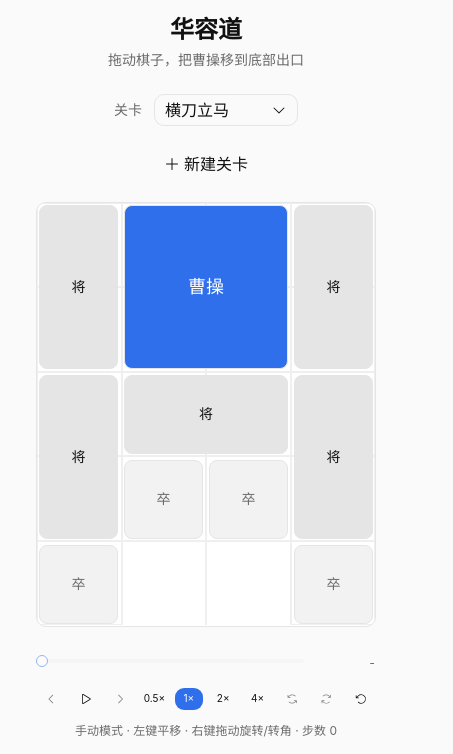
Test case: 自动演示动画队列 › 暂停后点击下一步会播放旋转动画再提交目标朝向
The width and height of the screenshot is (453, 754).
Click the dropdown named "选择关卡".
click(226, 110)  # box [154,94,298,126]
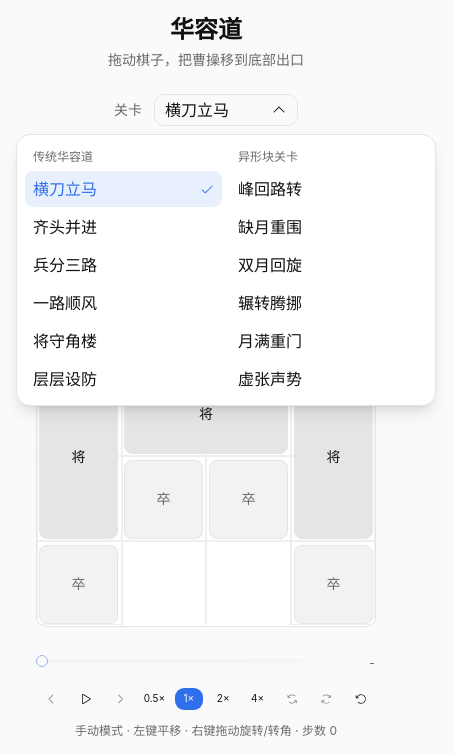
Click the option "双月回旋".
click(328, 264)  # box [230,246,427,282]
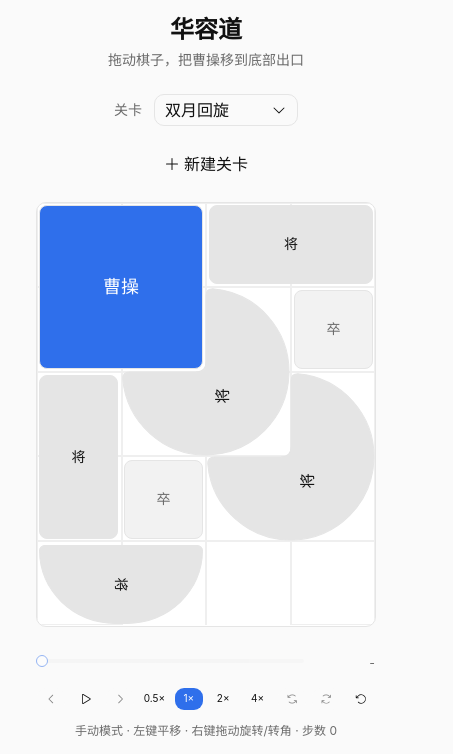
Click the button named "开始演示".
click(86, 698)  # box [70,686,101,710]
Wait 20 ms
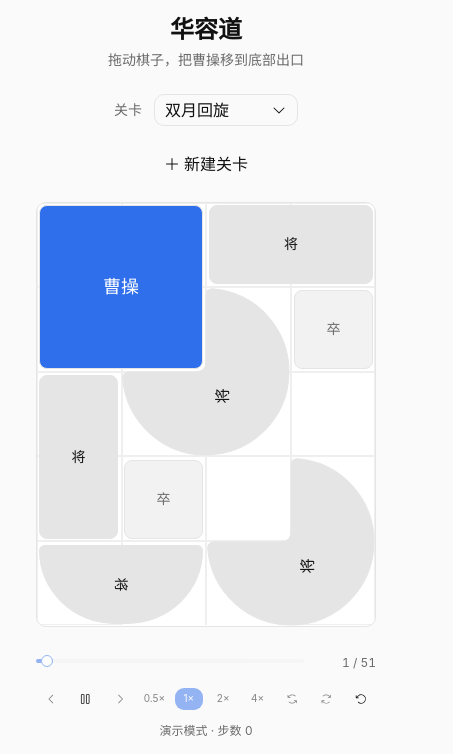
Click the button named "暂停演示".
click(86, 698)  # box [70,686,101,710]
Wait 150 ms
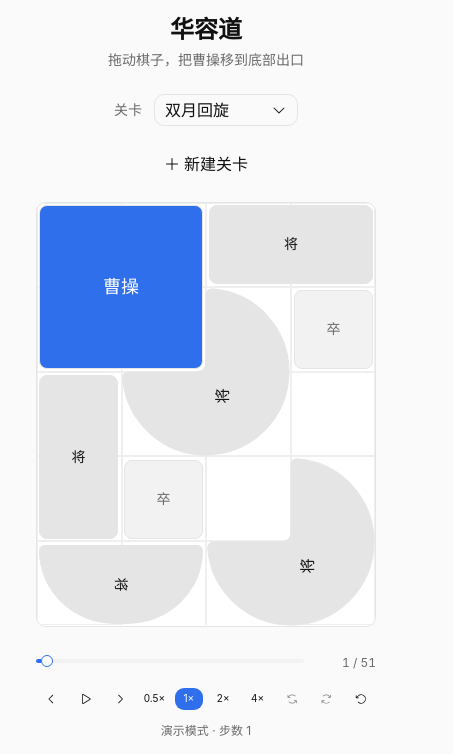
Check: the text "1 / 51" is shown, box [342,654,376,670]
Click the button named "下一步".
click(120, 698)  # box [105,686,135,710]
Wait 280 ms
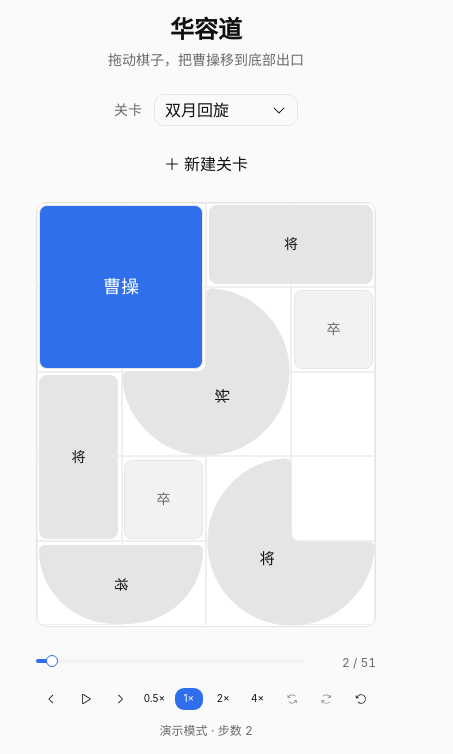
Check: the text "2 / 51" is shown, box [342,654,376,670]
